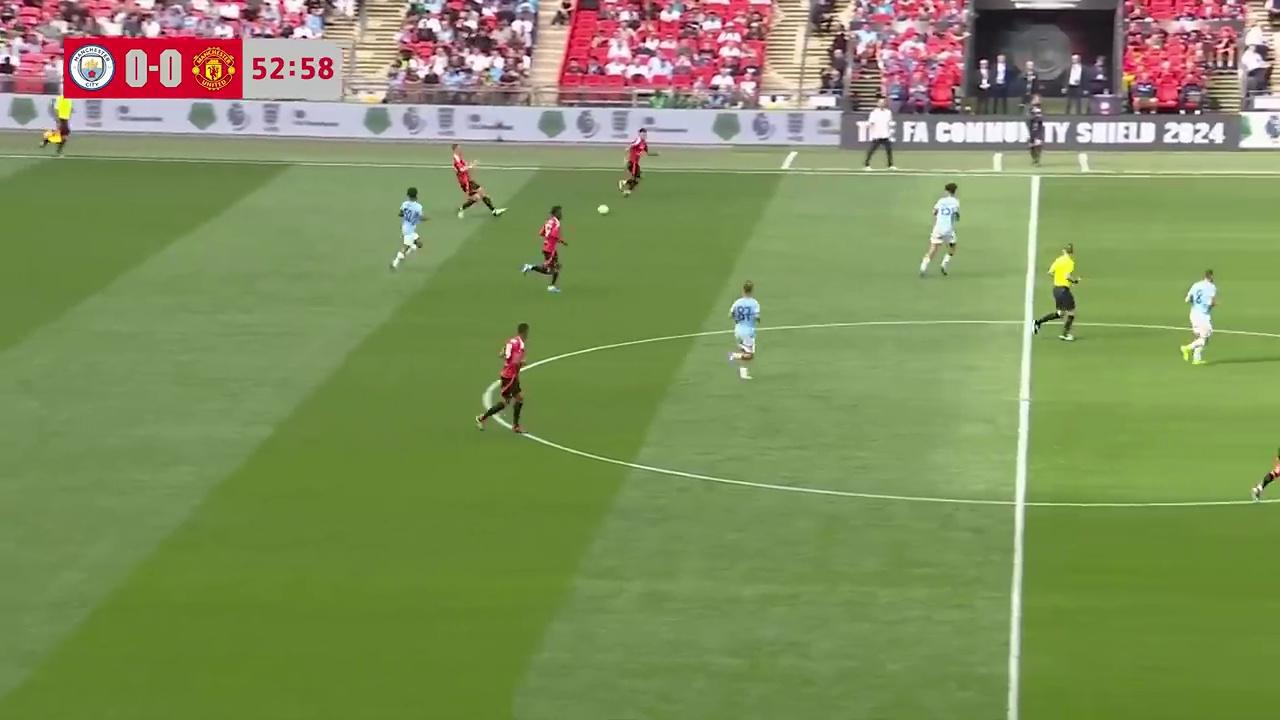ball: (594, 200, 610, 216)
player: (475, 324, 529, 434), (918, 183, 960, 279), (451, 147, 500, 219), (1181, 269, 1218, 364), (727, 280, 761, 379), (531, 205, 568, 294), (389, 187, 428, 271), (1251, 427, 1280, 502), (619, 131, 648, 197)
referee: (1034, 243, 1083, 341), (43, 94, 71, 157)
